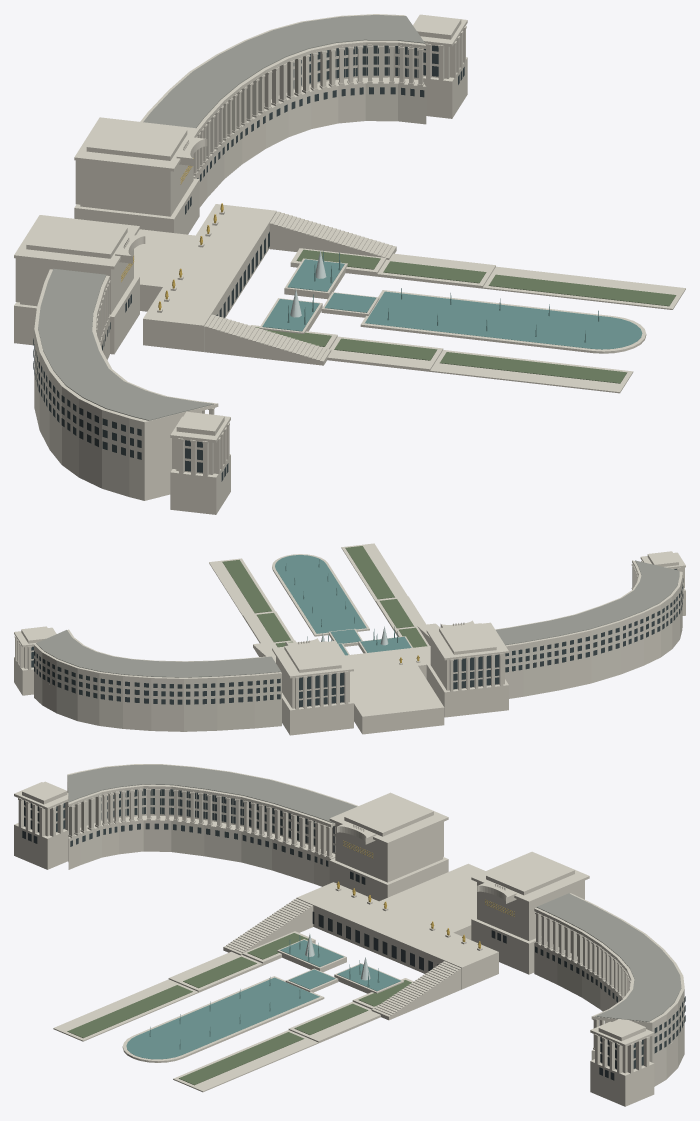
File: palais-de-chaillot-near.glb
3 views of the same model, one above another, from view 1: azimuth 30°, elevation 25°; view 2: azimuth 150°, elevation 25°; view 3: azimuth 270°, elevation 25° (orthographic). The views are drawn at different scales.
Visible parts, largest first — view 1: palais-de-chaillot-0-stone, palais-de-chaillot-0-roof, palais-de-chaillot-0-water, palais-de-chaillot-0-garden, palais-de-chaillot-0-glass; view 2: palais-de-chaillot-0-stone, palais-de-chaillot-0-roof, palais-de-chaillot-0-glass, palais-de-chaillot-0-water, palais-de-chaillot-0-garden; view 3: palais-de-chaillot-0-stone, palais-de-chaillot-0-roof, palais-de-chaillot-0-water, palais-de-chaillot-0-garden, palais-de-chaillot-0-glass.
Boxes of the visible parts, <box> form: palais-de-chaillot-0-stone: <box>14,14,685,514</box>; palais-de-chaillot-0-roof: <box>38,15,424,420</box>; palais-de-chaillot-0-water: <box>262,251,642,349</box>; palais-de-chaillot-0-garden: <box>255,249,676,383</box>; palais-de-chaillot-0-glass: <box>33,45,464,481</box>; palais-de-chaillot-0-stone: <box>14,543,685,735</box>; palais-de-chaillot-0-roof: <box>36,560,679,677</box>; palais-de-chaillot-0-glass: <box>31,569,683,707</box>; palais-de-chaillot-0-water: <box>275,555,411,655</box>; palais-de-chaillot-0-garden: <box>222,546,427,647</box>; palais-de-chaillot-0-stone: <box>14,764,684,1106</box>; palais-de-chaillot-0-roof: <box>67,764,681,1021</box>; palais-de-chaillot-0-water: <box>126,935,400,1059</box>; palais-de-chaillot-0-garden: <box>67,933,411,1085</box>; palais-de-chaillot-0-glass: <box>22,788,685,1080</box>.
Size of the model in its own units: 326 by 42.4 by 333.
